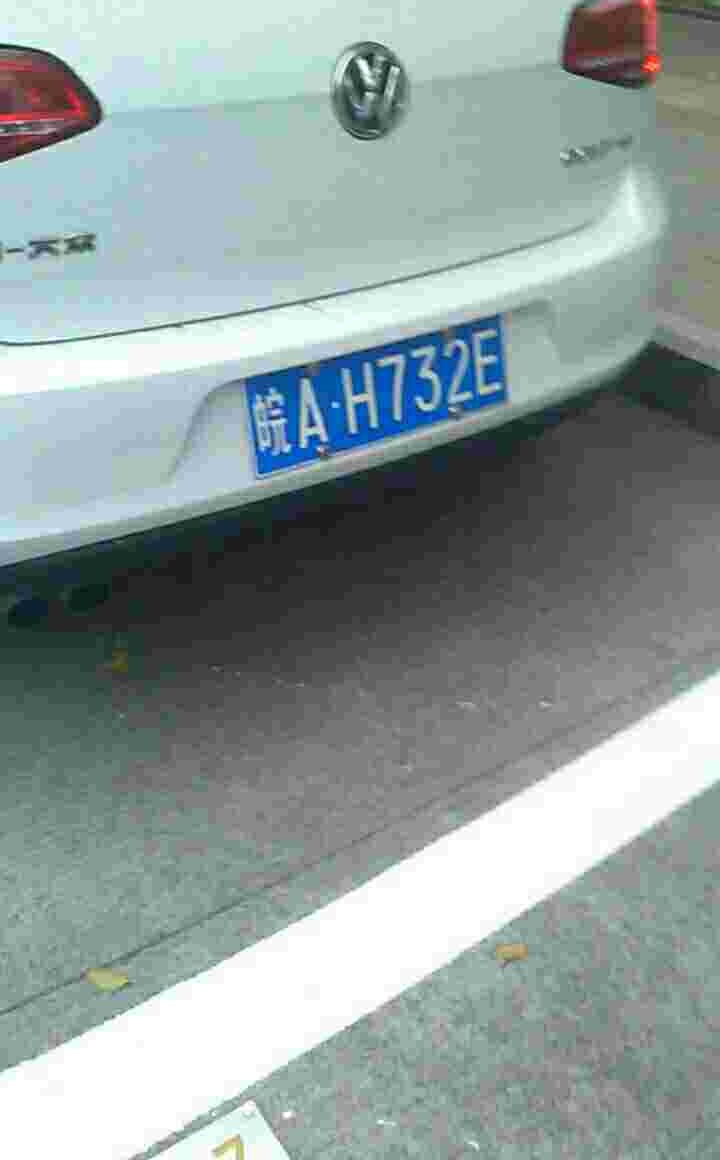license_plate: (237, 320, 507, 483)
